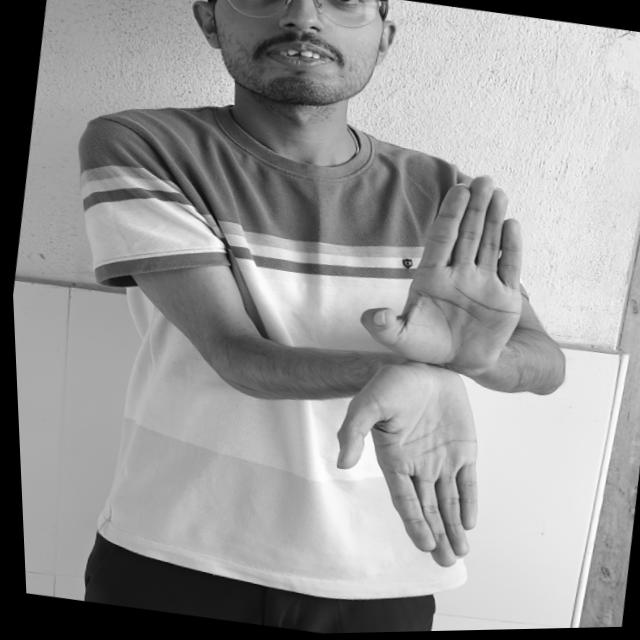Morning: (276, 138, 607, 611)
